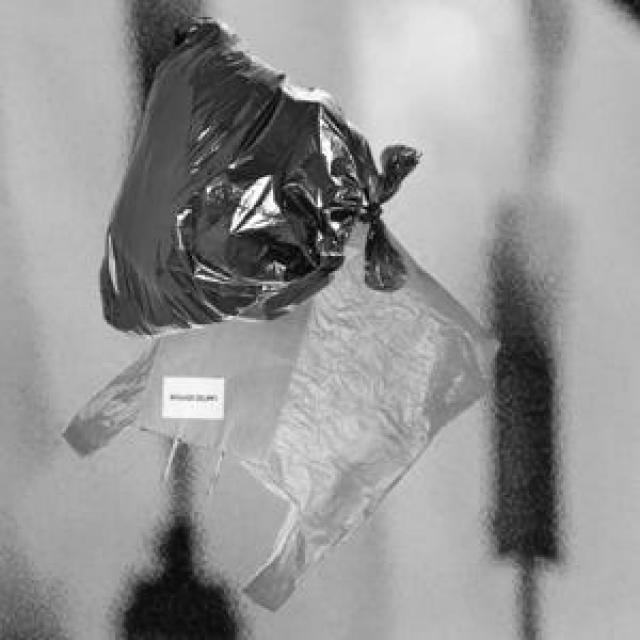miscellaneous trash: (96, 13, 416, 333)
paper: (130, 292, 310, 484)
